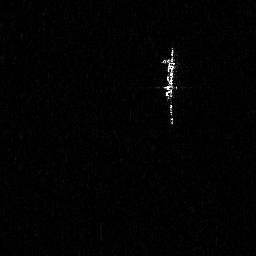ship: (155, 43, 181, 126)
